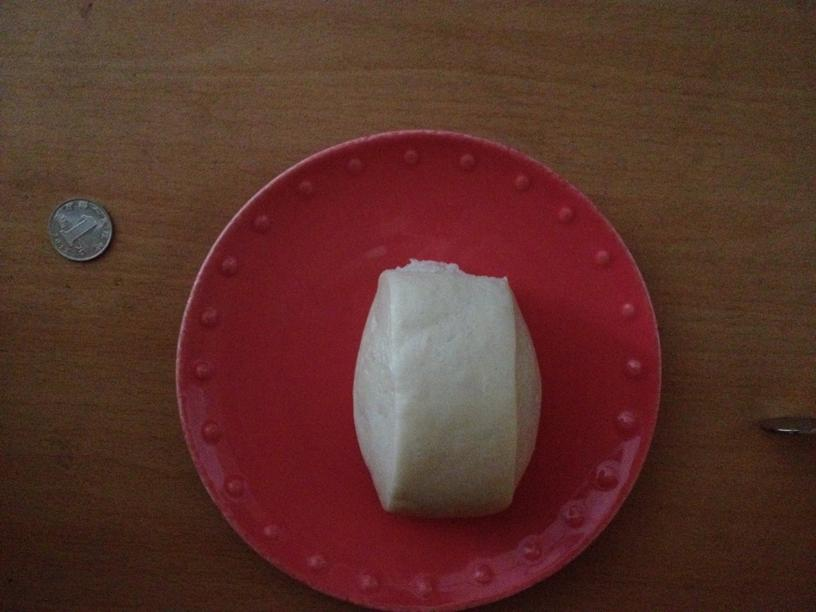bun: (347, 258, 544, 513)
coin: (48, 197, 114, 262)
